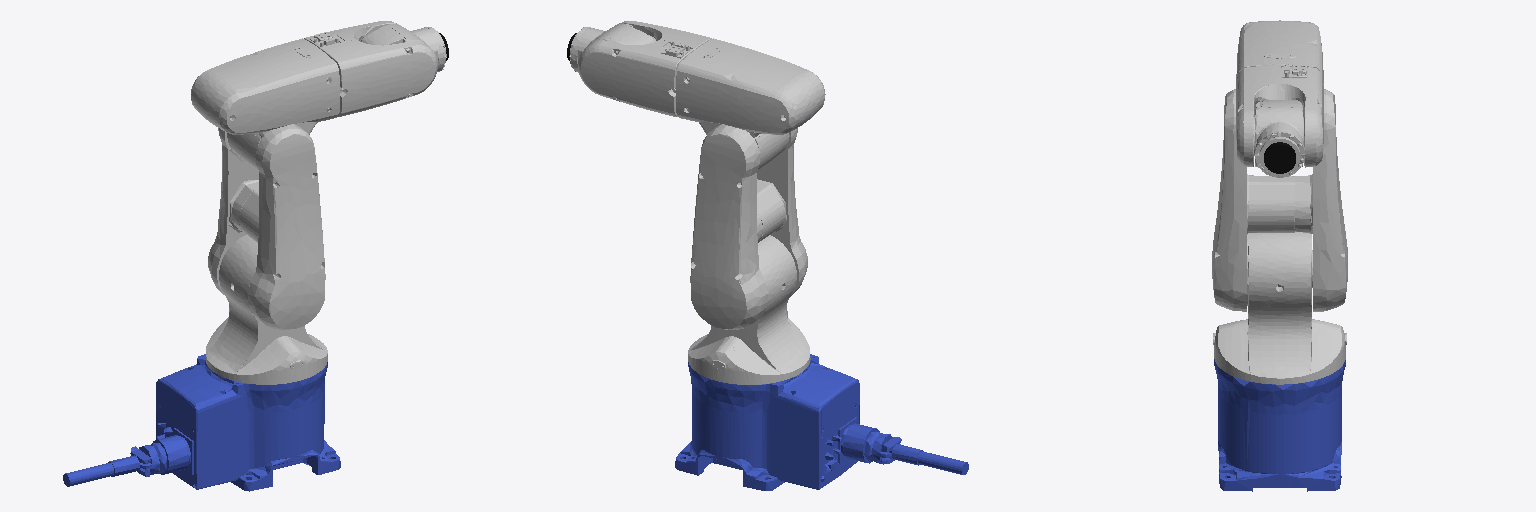
The robot description file, URDF, robot "vp6242":
<?xml version="1.0" ?>
<!-- =================================================================================== -->
<!-- |    This document was autogenerated by xacro from vp6242.urdf.xacro              | -->
<!-- |    EDITING THIS FILE BY HAND IS NOT RECOMMENDED                                 | -->
<!-- =================================================================================== -->
<robot name="vp6242" xmlns:xacro="http://www.ros.org/wiki/xacro">
  <!--
		J1   J2   J3   J4   J5   J6
		160  120  160  160  120  360
	   -160 -120   19 -160 -120 -360
	-->
  <link name="base_link">
    <visual>
      <geometry>
        <mesh filename="package://vp6242_description/robot/base.stl" scale="0.001 0.001 0.001"/>
      </geometry>
      <origin rpy="-1.570796 3.141592 0" xyz="0 0 0"/>
      <material name="base_link">
        <color rgba="0.3 0.4 0.8 1"/>
      </material>
    </visual>
    <collision>
      <geometry>
        <mesh filename="package://vp6242_description/robot/base_collision.stl" scale="0.001 0.001 0.001"/>
      </geometry>
      <origin rpy="-1.570796 3.141592 0" xyz="0 0 0"/>
    </collision>
  </link>
  <link name="link0">
    <visual>
      <geometry>
        <mesh filename="package://vp6242_description/robot/l0.stl" scale="0.001 0.001 0.001"/>
      </geometry>
      <origin rpy="-1.570796 3.141592 0" xyz="0 0 0"/>
      <material name="link">
        <color rgba="0.8 0.8 0.8 1"/>
      </material>
    </visual>
    <collision>
      <geometry>
        <mesh filename="package://vp6242_description/robot/l0_collision.stl" scale="0.001 0.001 0.001"/>
      </geometry>
      <origin rpy="-1.570796 3.141592 0" xyz="0 0 0"/>
    </collision>
  </link>
  <joint name="J1" type="revolute">
    <axis xyz="0 0 1"/>
    <limit effort="1000.0" lower="-2.792526" upper="2.792526" velocity="1.0"/>
    <origin rpy="0 0 0" xyz="0.0 0.0 0.155"/>
    <parent link="base_link"/>
    <child link="link0"/>
  </joint>
  <link name="link1">
    <visual>
      <geometry>
        <mesh filename="package://vp6242_description/robot/l1.stl" scale="0.001 0.001 0.001"/>
      </geometry>
      <origin rpy="-1.570796 3.141592 0" xyz="0 0 0"/>
      <material name="link"/>
    </visual>
    <collision>
      <geometry>
        <mesh filename="package://vp6242_description/robot/l1_collision.stl" scale="0.001 0.001 0.001"/>
      </geometry>
      <origin rpy="-1.570796 3.141592 0" xyz="0 0 0"/>
    </collision>
  </link>
  <joint name="J2" type="revolute">
    <axis xyz="0 1 0"/>
    <limit effort="1000.0" lower="-2.094394" upper="2.094394" velocity="1.0"/>
    <origin rpy="0 0 0" xyz="0.0 0.0 0.125"/>
    <parent link="link0"/>
    <child link="link1"/>
  </joint>
  <link name="link2">
    <visual>
      <geometry>
        <mesh filename="package://vp6242_description/robot/l2.stl" scale="0.001 0.001 0.001"/>
      </geometry>
      <origin rpy="-1.570796 1.570796 0" xyz="0 0 0"/>
      <material name="link"/>
    </visual>
    <collision>
      <geometry>
        <mesh filename="package://vp6242_description/robot/l2_collision.stl" scale="0.001 0.001 0.001"/>
      </geometry>
      <origin rpy="-1.570796 1.570796 0" xyz="0 0 0"/>
    </collision>
  </link>
  <joint name="J3" type="revolute">
    <axis xyz="0 1 0"/>
    <limit effort="1000.0" lower="0.331612" upper="2.792526" velocity="1.0"/>
    <origin rpy="0 0 0" xyz="0.0 0.0 0.210"/>
    <parent link="link1"/>
    <child link="link2"/>
  </joint>
  <link name="link3">
    <visual>
      <geometry>
        <mesh filename="package://vp6242_description/robot/l3.stl" scale="0.001 0.001 0.001"/>
      </geometry>
      <origin rpy="-1.570796 3.141592 0" xyz="0.085 0 0.0"/>
      <material name="link"/>
    </visual>
    <collision>
      <geometry>
        <mesh filename="package://vp6242_description/robot/l3_collision.stl" scale="0.001 0.001 0.001"/>
      </geometry>
      <origin rpy="-1.570796 3.141592 0" xyz="0.085 0 0"/>
    </collision>
  </link>
  <joint name="J4" type="revolute">
    <axis xyz="1 0 0"/>
    <limit effort="1000.0" lower="-2.792526" upper="2.792526" velocity="1.0"/>
    <origin rpy="0 -1.570796 0" xyz="-0.075 0.0 0.0"/>
    <parent link="link2"/>
    <child link="link3"/>
  </joint>
  <link name="link4">
    <visual>
      <geometry>
        <mesh filename="package://vp6242_description/robot/l4.stl" scale="0.001 0.001 0.001"/>
      </geometry>
      <origin rpy="-1.570796 3.141592 0" xyz="0 0 0"/>
      <material name="link"/>
    </visual>
    <collision>
      <geometry>
        <mesh filename="package://vp6242_description/robot/l4_collision.stl" scale="0.001 0.001 0.001"/>
      </geometry>
      <origin rpy="-1.570796 3.141592 0" xyz="0 0 0"/>
    </collision>
  </link>
  <joint name="J5" type="revolute">
    <axis xyz="0 1 0"/>
    <limit effort="1000.0" lower="-2.094394" upper="2.094394" velocity="1.0"/>
    <origin rpy="0 0 0" xyz="0.210 0.0 0.0"/>
    <parent link="link3"/>
    <child link="link4"/>
  </joint>
  <link name="link5">
    <visual>
      <geometry>
        <cylinder length="0.010" radius="0.021"/>
      </geometry>
      <origin rpy="0 1.570796 0" xyz="-0.004 0.0 0.0"/>
      <material name="plate">
        <color rgba="0.1 0.1 0.1 0.8"/>
      </material>
    </visual>
  </link>
  <joint name="J6" type="revolute">
    <axis xyz="1 0 0"/>
    <!--limit effort="1000.0" lower="-6.283185" upper="6.283185" velocity="1.0"/-->
    <!--limit effort="1000.0" lower="-3.141592" upper="3.141592" velocity="1.0"/-->
    <limit effort="1000.0" lower="-1.570796" upper="1.570796" velocity="1.0" acceleration="1.0"/>
    <origin rpy="0 0 0" xyz="0.07 0.0 0.0"/>
    <parent link="link4"/>
    <child link="link5"/>
  </joint>
</robot>

--- Render facts (derived) ---
3 views of the same robot in one strip: view 1: azimuth 30°, elevation 25°; view 2: azimuth 150°, elevation 25°; view 3: azimuth 270°, elevation 25° (orthographic).
Robot: vp6242 — 7 links, 6 joints (6 revolute); root link base_link; default pose: joints at zero except 1 at the middle of their limits (J3 = 1.56).
Visible links, largest first — view 1: base_link, link1, link2, link0, link3, link4; view 2: base_link, link1, link2, link0, link3, link4; view 3: link1, base_link, link0, link3, link2, link4, link5.
Boxes of the visible links, bbox=[...] form: base_link: bbox=[63, 354, 340, 491]; link1: bbox=[208, 124, 325, 329]; link2: bbox=[191, 38, 339, 170]; link0: bbox=[206, 235, 327, 384]; link3: bbox=[304, 21, 437, 116]; link4: bbox=[361, 24, 446, 71]; base_link: bbox=[675, 354, 968, 490]; link1: bbox=[690, 124, 807, 329]; link2: bbox=[676, 38, 825, 169]; link0: bbox=[688, 235, 810, 384]; link3: bbox=[578, 21, 711, 116]; link4: bbox=[569, 24, 655, 72]; link1: bbox=[1212, 89, 1347, 311]; base_link: bbox=[1214, 359, 1345, 491]; link0: bbox=[1213, 232, 1346, 384]; link3: bbox=[1236, 63, 1323, 167]; link2: bbox=[1236, 20, 1323, 85]; link4: bbox=[1254, 100, 1304, 177]; link5: bbox=[1264, 142, 1295, 173].
Bounding box of the posed robot: 0.6146 × 0.1761 × 0.6164 m (x, y, z).
6 mesh visuals loaded from 6 distinct referenced files (6 binary STL).
